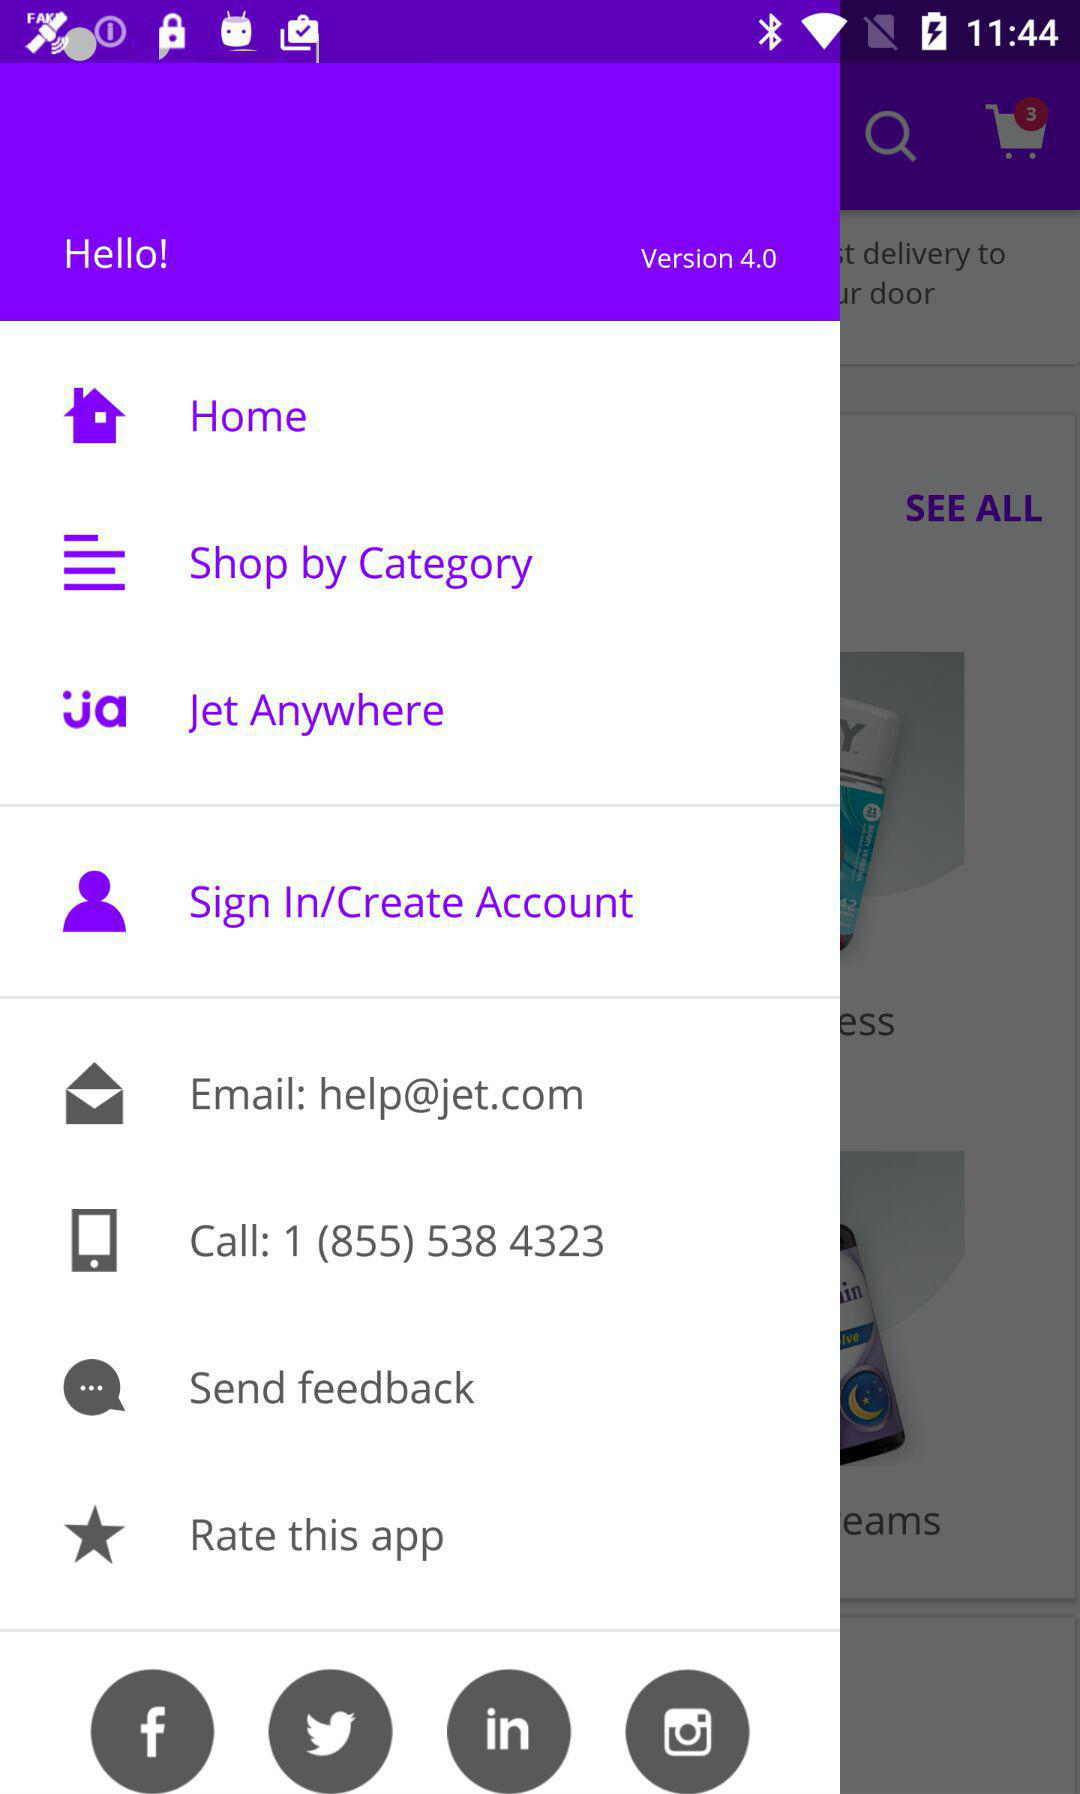Drawer: (1, 63, 840, 1794)
Icon: (268, 1668, 395, 1794), (90, 1668, 217, 1794), (61, 869, 128, 934), (65, 1060, 126, 1126), (63, 1358, 128, 1419), (63, 533, 128, 593), (63, 386, 129, 445), (64, 1503, 127, 1565)
Image: (446, 1668, 573, 1794), (625, 1668, 751, 1794), (70, 1208, 120, 1274), (61, 688, 129, 730)
Text: (190, 882, 633, 930), (191, 1073, 585, 1123), (191, 1221, 605, 1265), (190, 543, 536, 593), (186, 689, 447, 738), (192, 1516, 446, 1565), (190, 1369, 477, 1407), (191, 399, 309, 434), (65, 235, 170, 273), (641, 249, 779, 273)
UpperTaskBar: (1, 1, 1080, 64)
